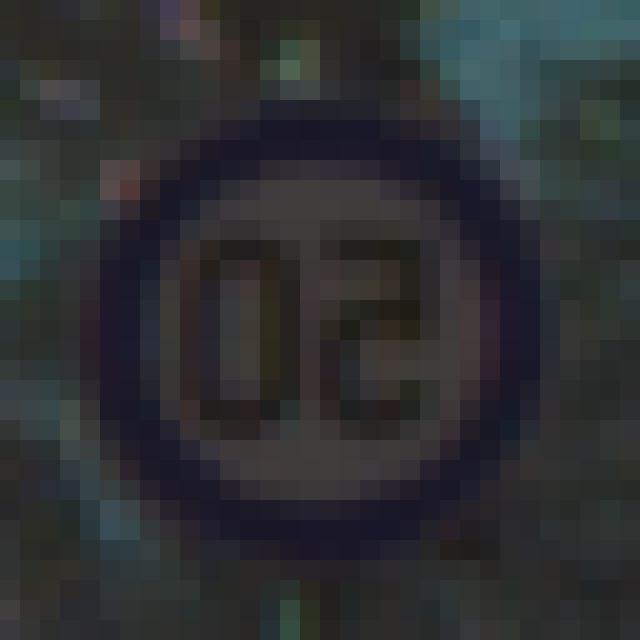SPEED LIMIT 50: (120, 160, 506, 506)
